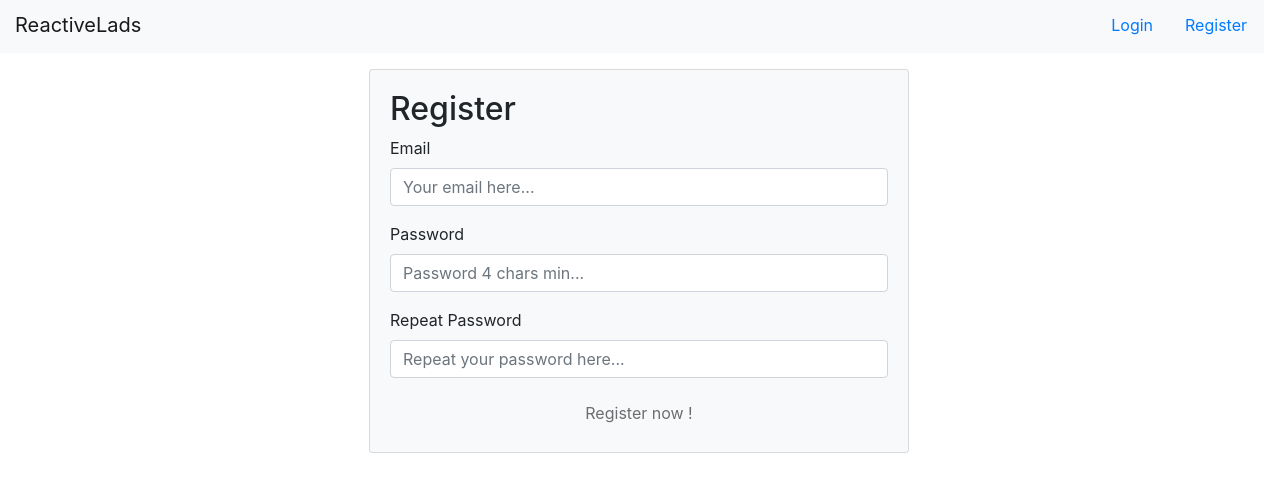
Test case: <RegisterForm/> e2e › Fields validation › Repeat Password field validation › should validate on empty password
This screenshot has width=1264, height=494.
Type "12" into the password field named "repeatPassword" at (639, 359), box 390,340 -> 888,378
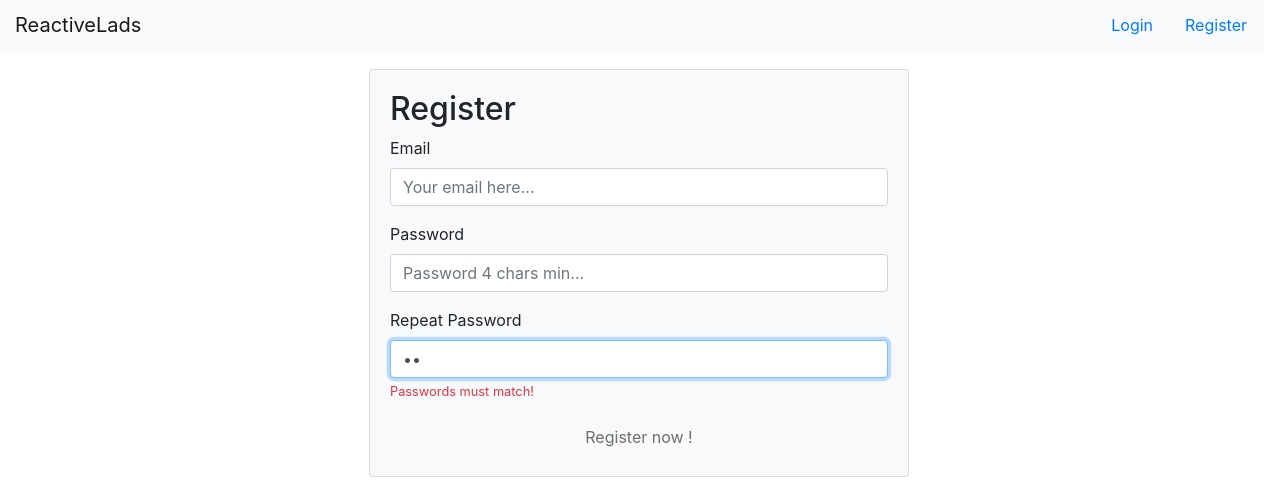
Expected: the text "Passwords must match!" is shown, 390,384 -> 534,399
